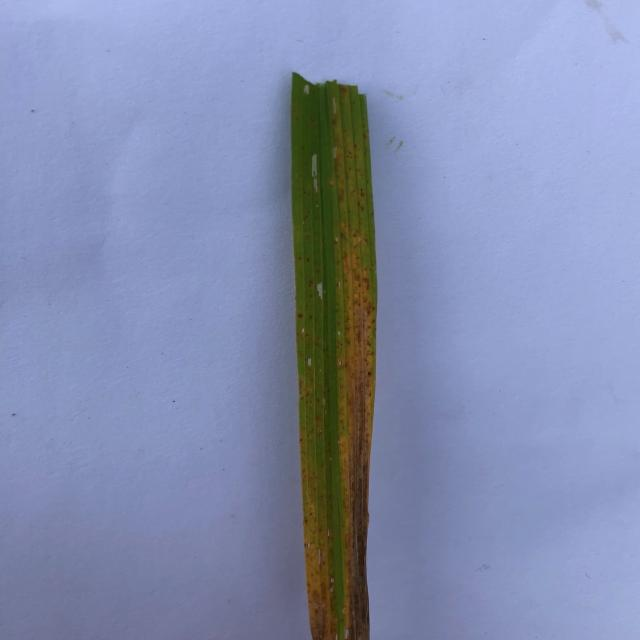tungro: (326, 226, 381, 550), (300, 482, 338, 640)
